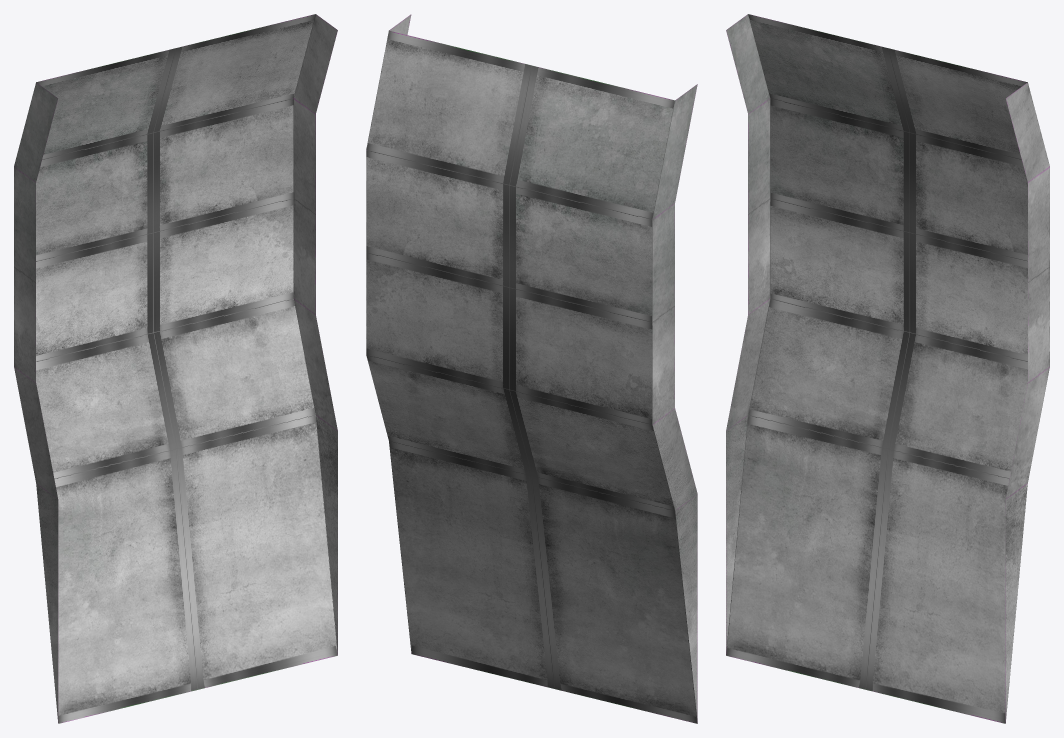
Rendered from Wall001-2.fbx.
The picture shows the model from 3 angles, left to right: view 1: azimuth 30°, elevation 25°; view 2: azimuth 150°, elevation 25°; view 3: azimuth 330°, elevation 25°; orthographic projection. The views are drawn at different scales.
Visible parts, largest first — view 1: Wall001-2; view 2: Wall001-2; view 3: Wall001-2.
Boxes of the visible parts, <box> form: Wall001-2: <box>14,14,337,723</box>; Wall001-2: <box>366,14,697,723</box>; Wall001-2: <box>726,14,1049,723</box>.
Size of the model in its own units: 185 by 396 by 50.8.
1 material, 1 textured.
